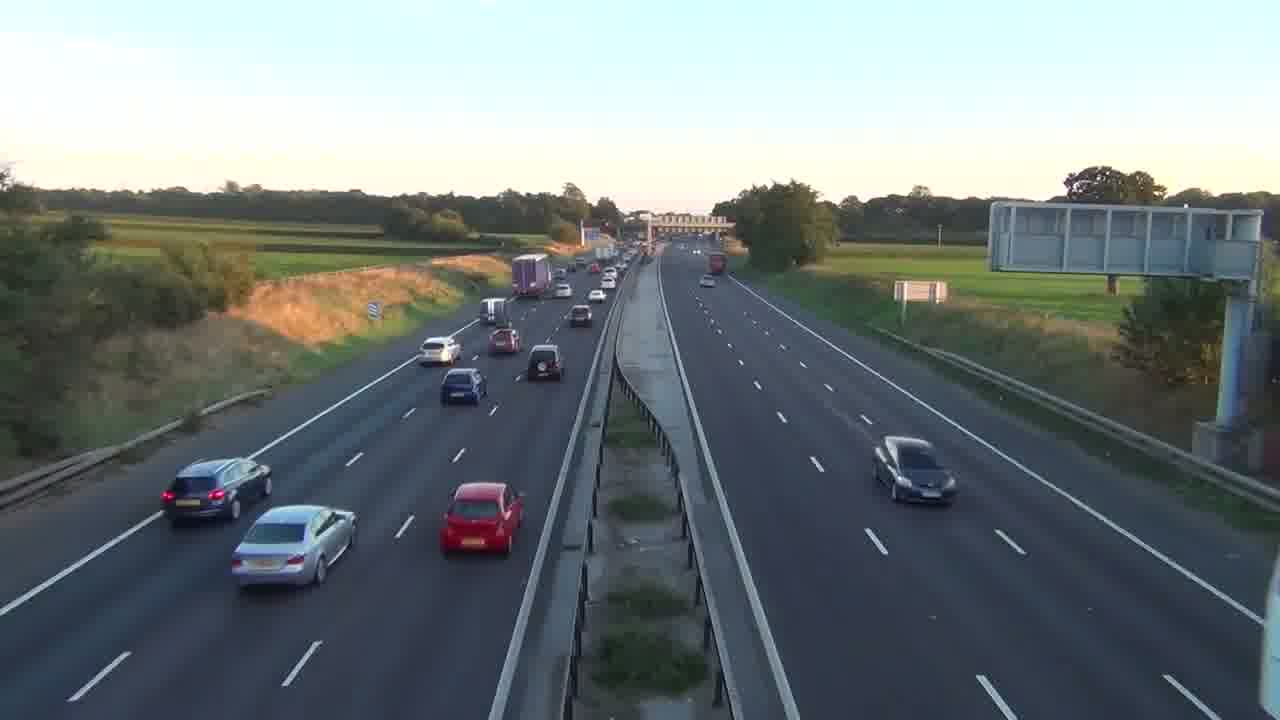car: (230, 503, 357, 589), (159, 457, 273, 526), (439, 481, 524, 556), (873, 434, 958, 505), (440, 367, 485, 405), (526, 342, 564, 381), (417, 336, 462, 366), (487, 327, 522, 355), (567, 304, 593, 327)
truck: (511, 253, 553, 299)
